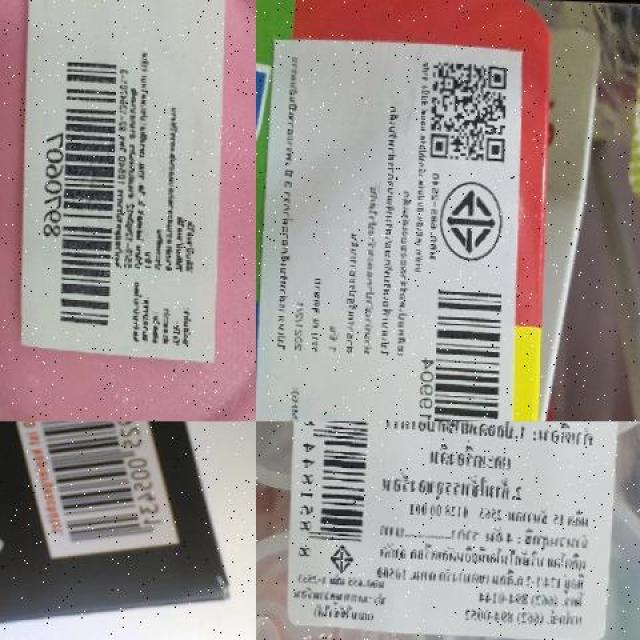Barcode: (38, 39, 126, 336), (0, 421, 185, 555), (414, 269, 510, 422), (300, 421, 379, 551)
